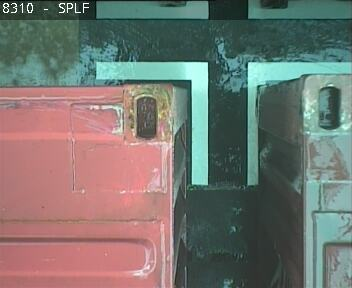groundmarker_1: (95, 60, 346, 186)
